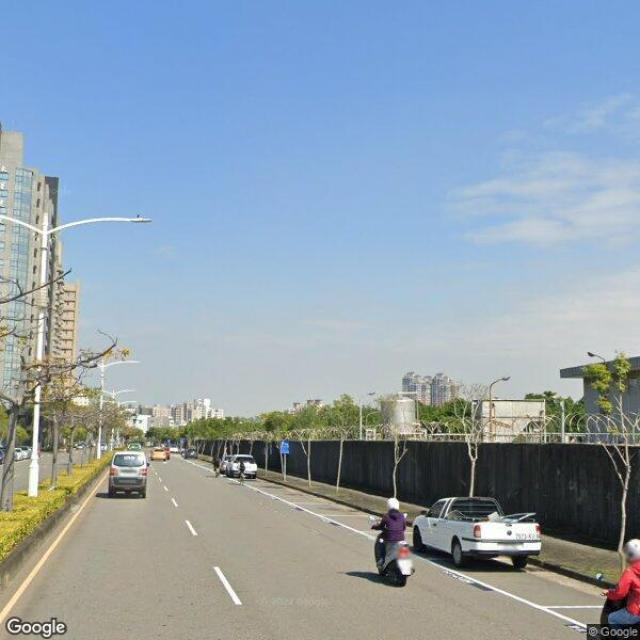Legalparking: (412, 498, 540, 569), (221, 454, 257, 477)
